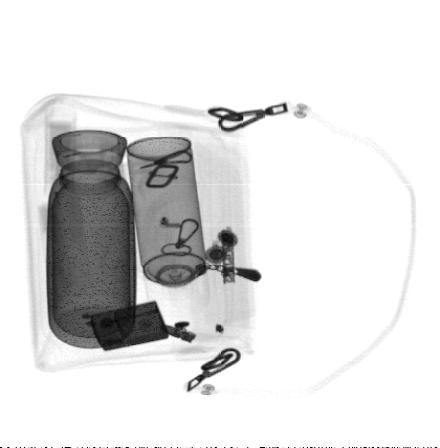Lighter: (92, 300, 171, 352)
Sprayer: (127, 135, 212, 320)
